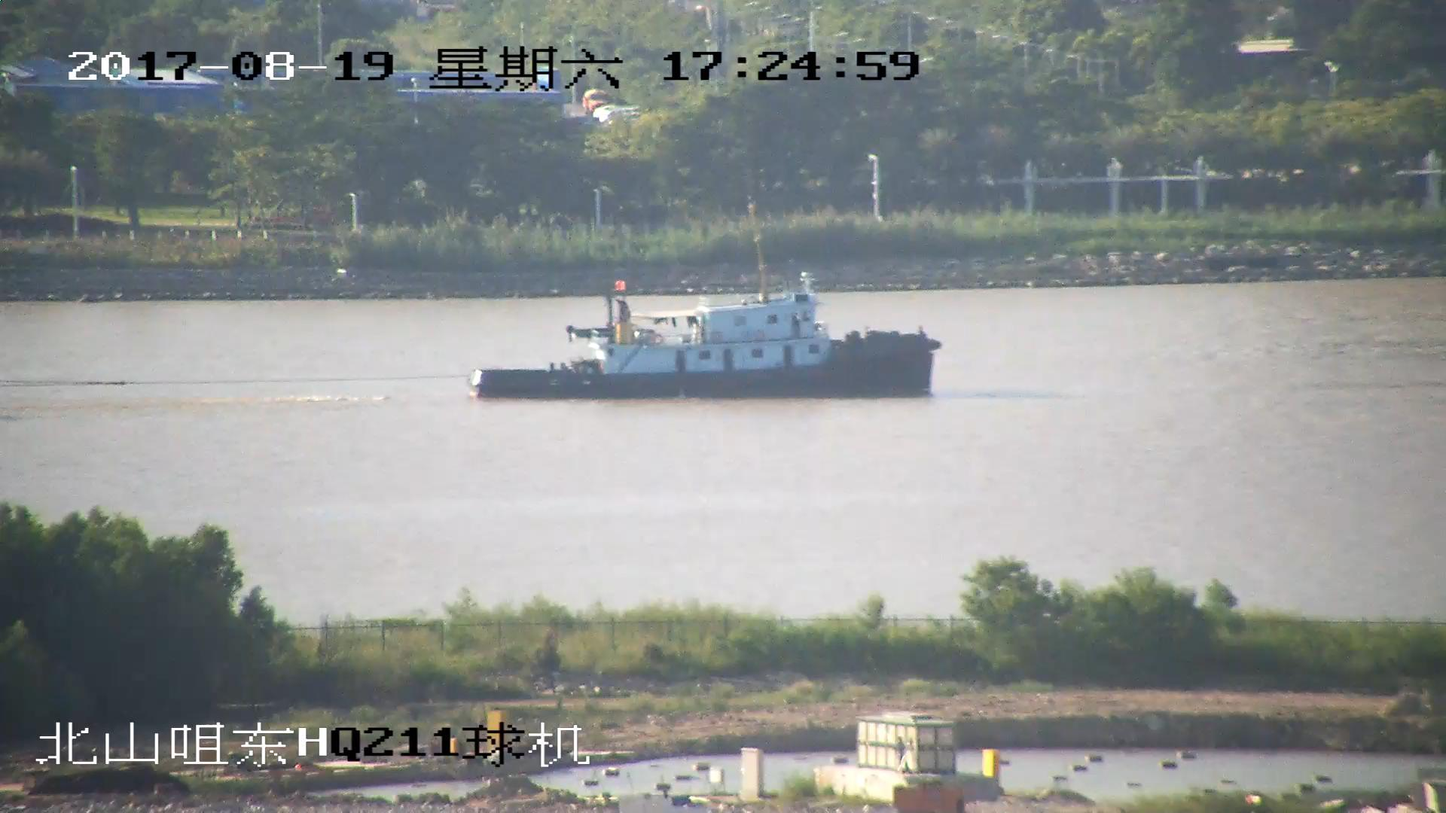fishing boat: (471, 285, 939, 401)
